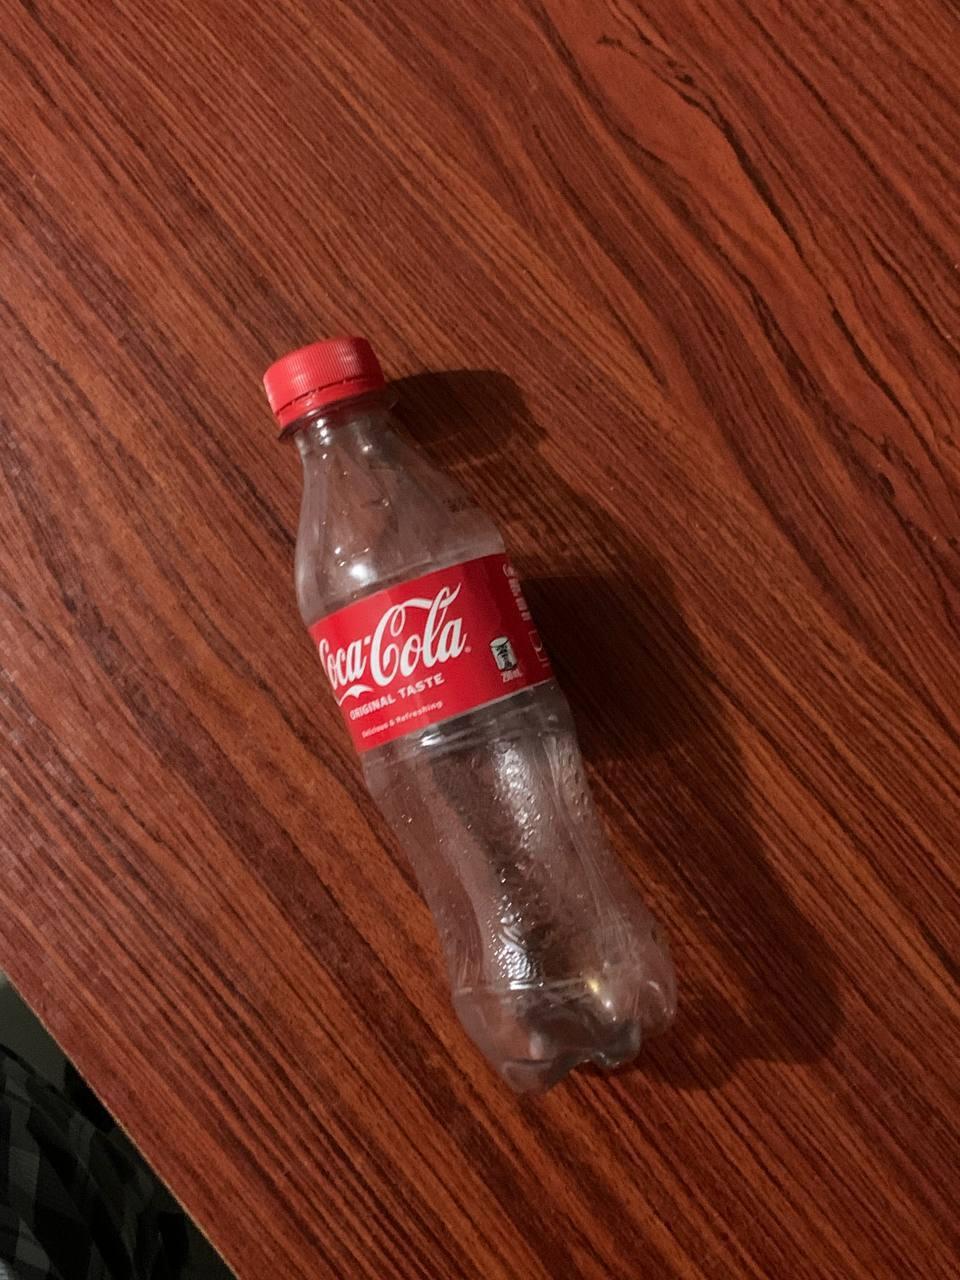plastic: (170, 299, 767, 1150)
